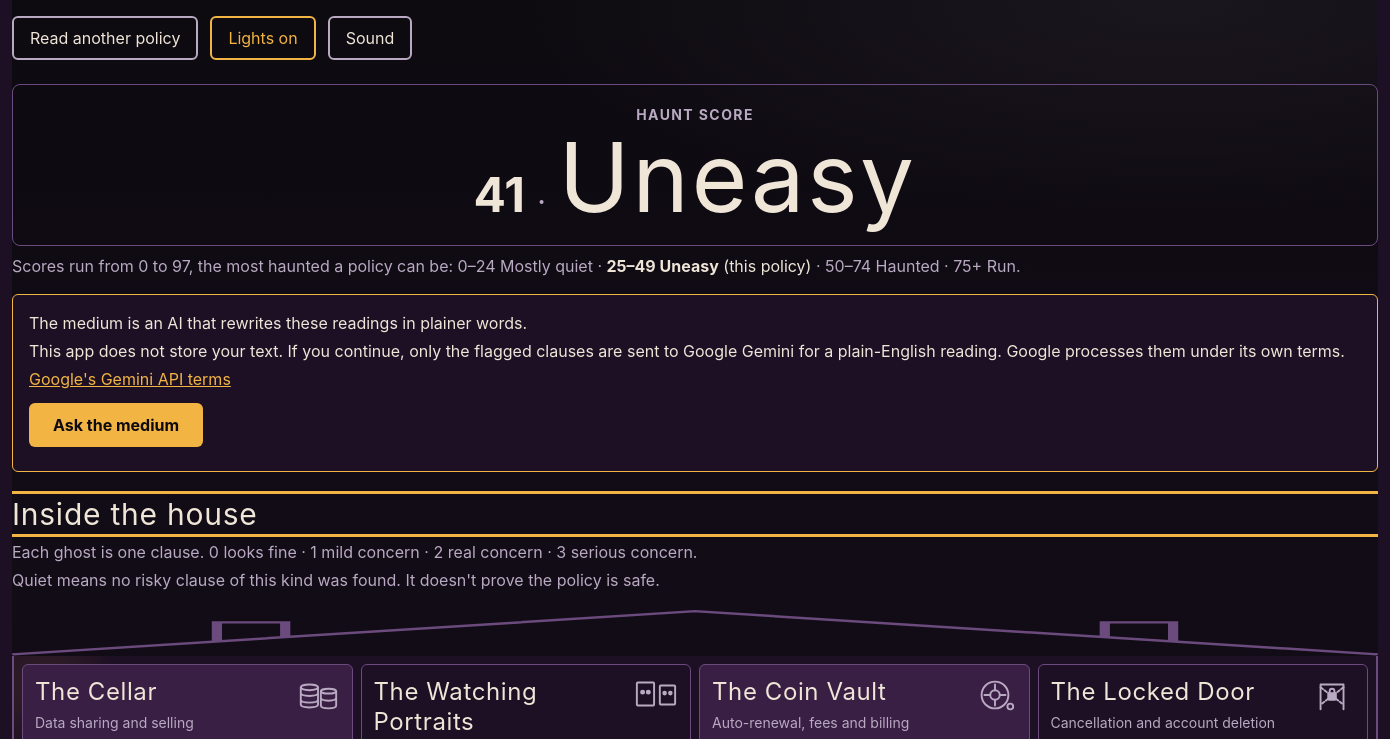
OptInPanel (R14) › on success: merges, updates the score and badges, announces, hides the button (R14.5, R7.2)
Step 1. Click the button "Ask the medium" → coordinates (116, 425), box [29,403,203,447]
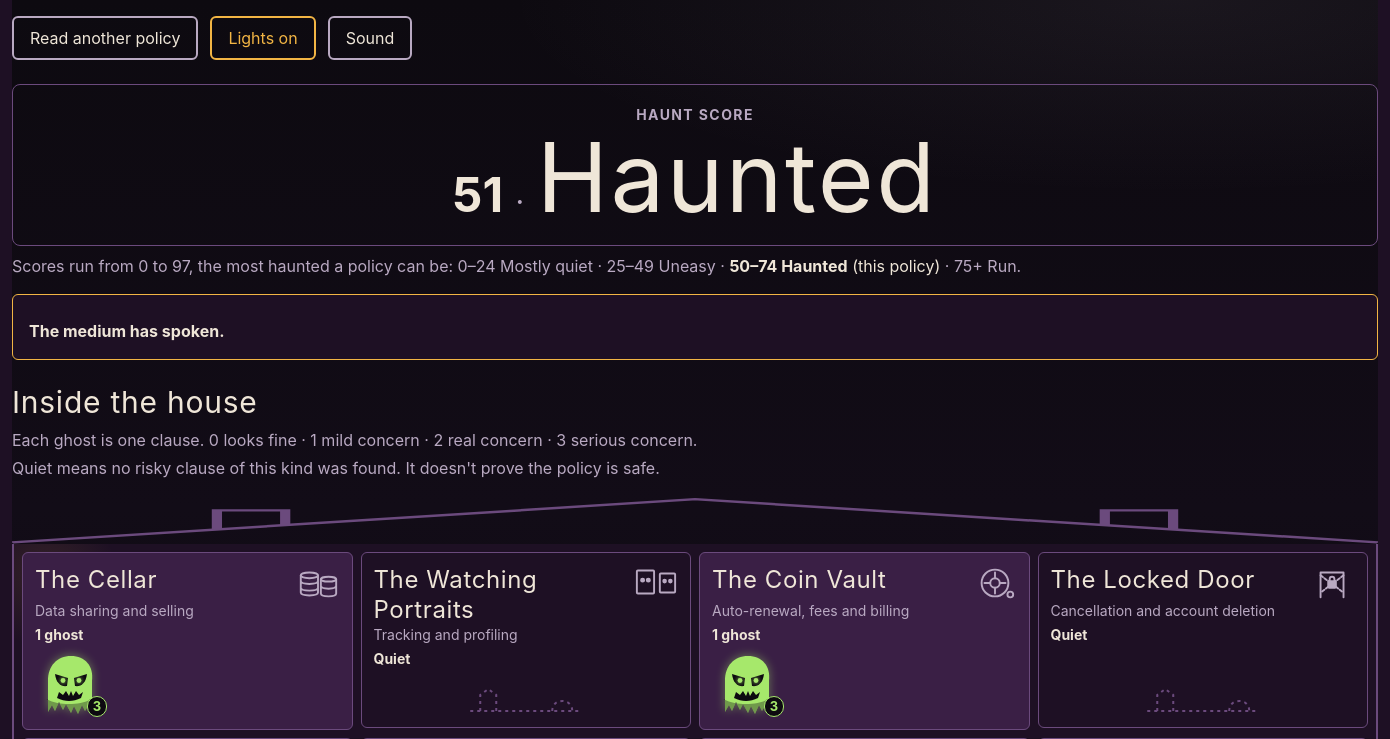
Expected: the text "The medium has spoken." is shown, [29,321,224,341]
Expected: the button "Ask the medium" is gone
